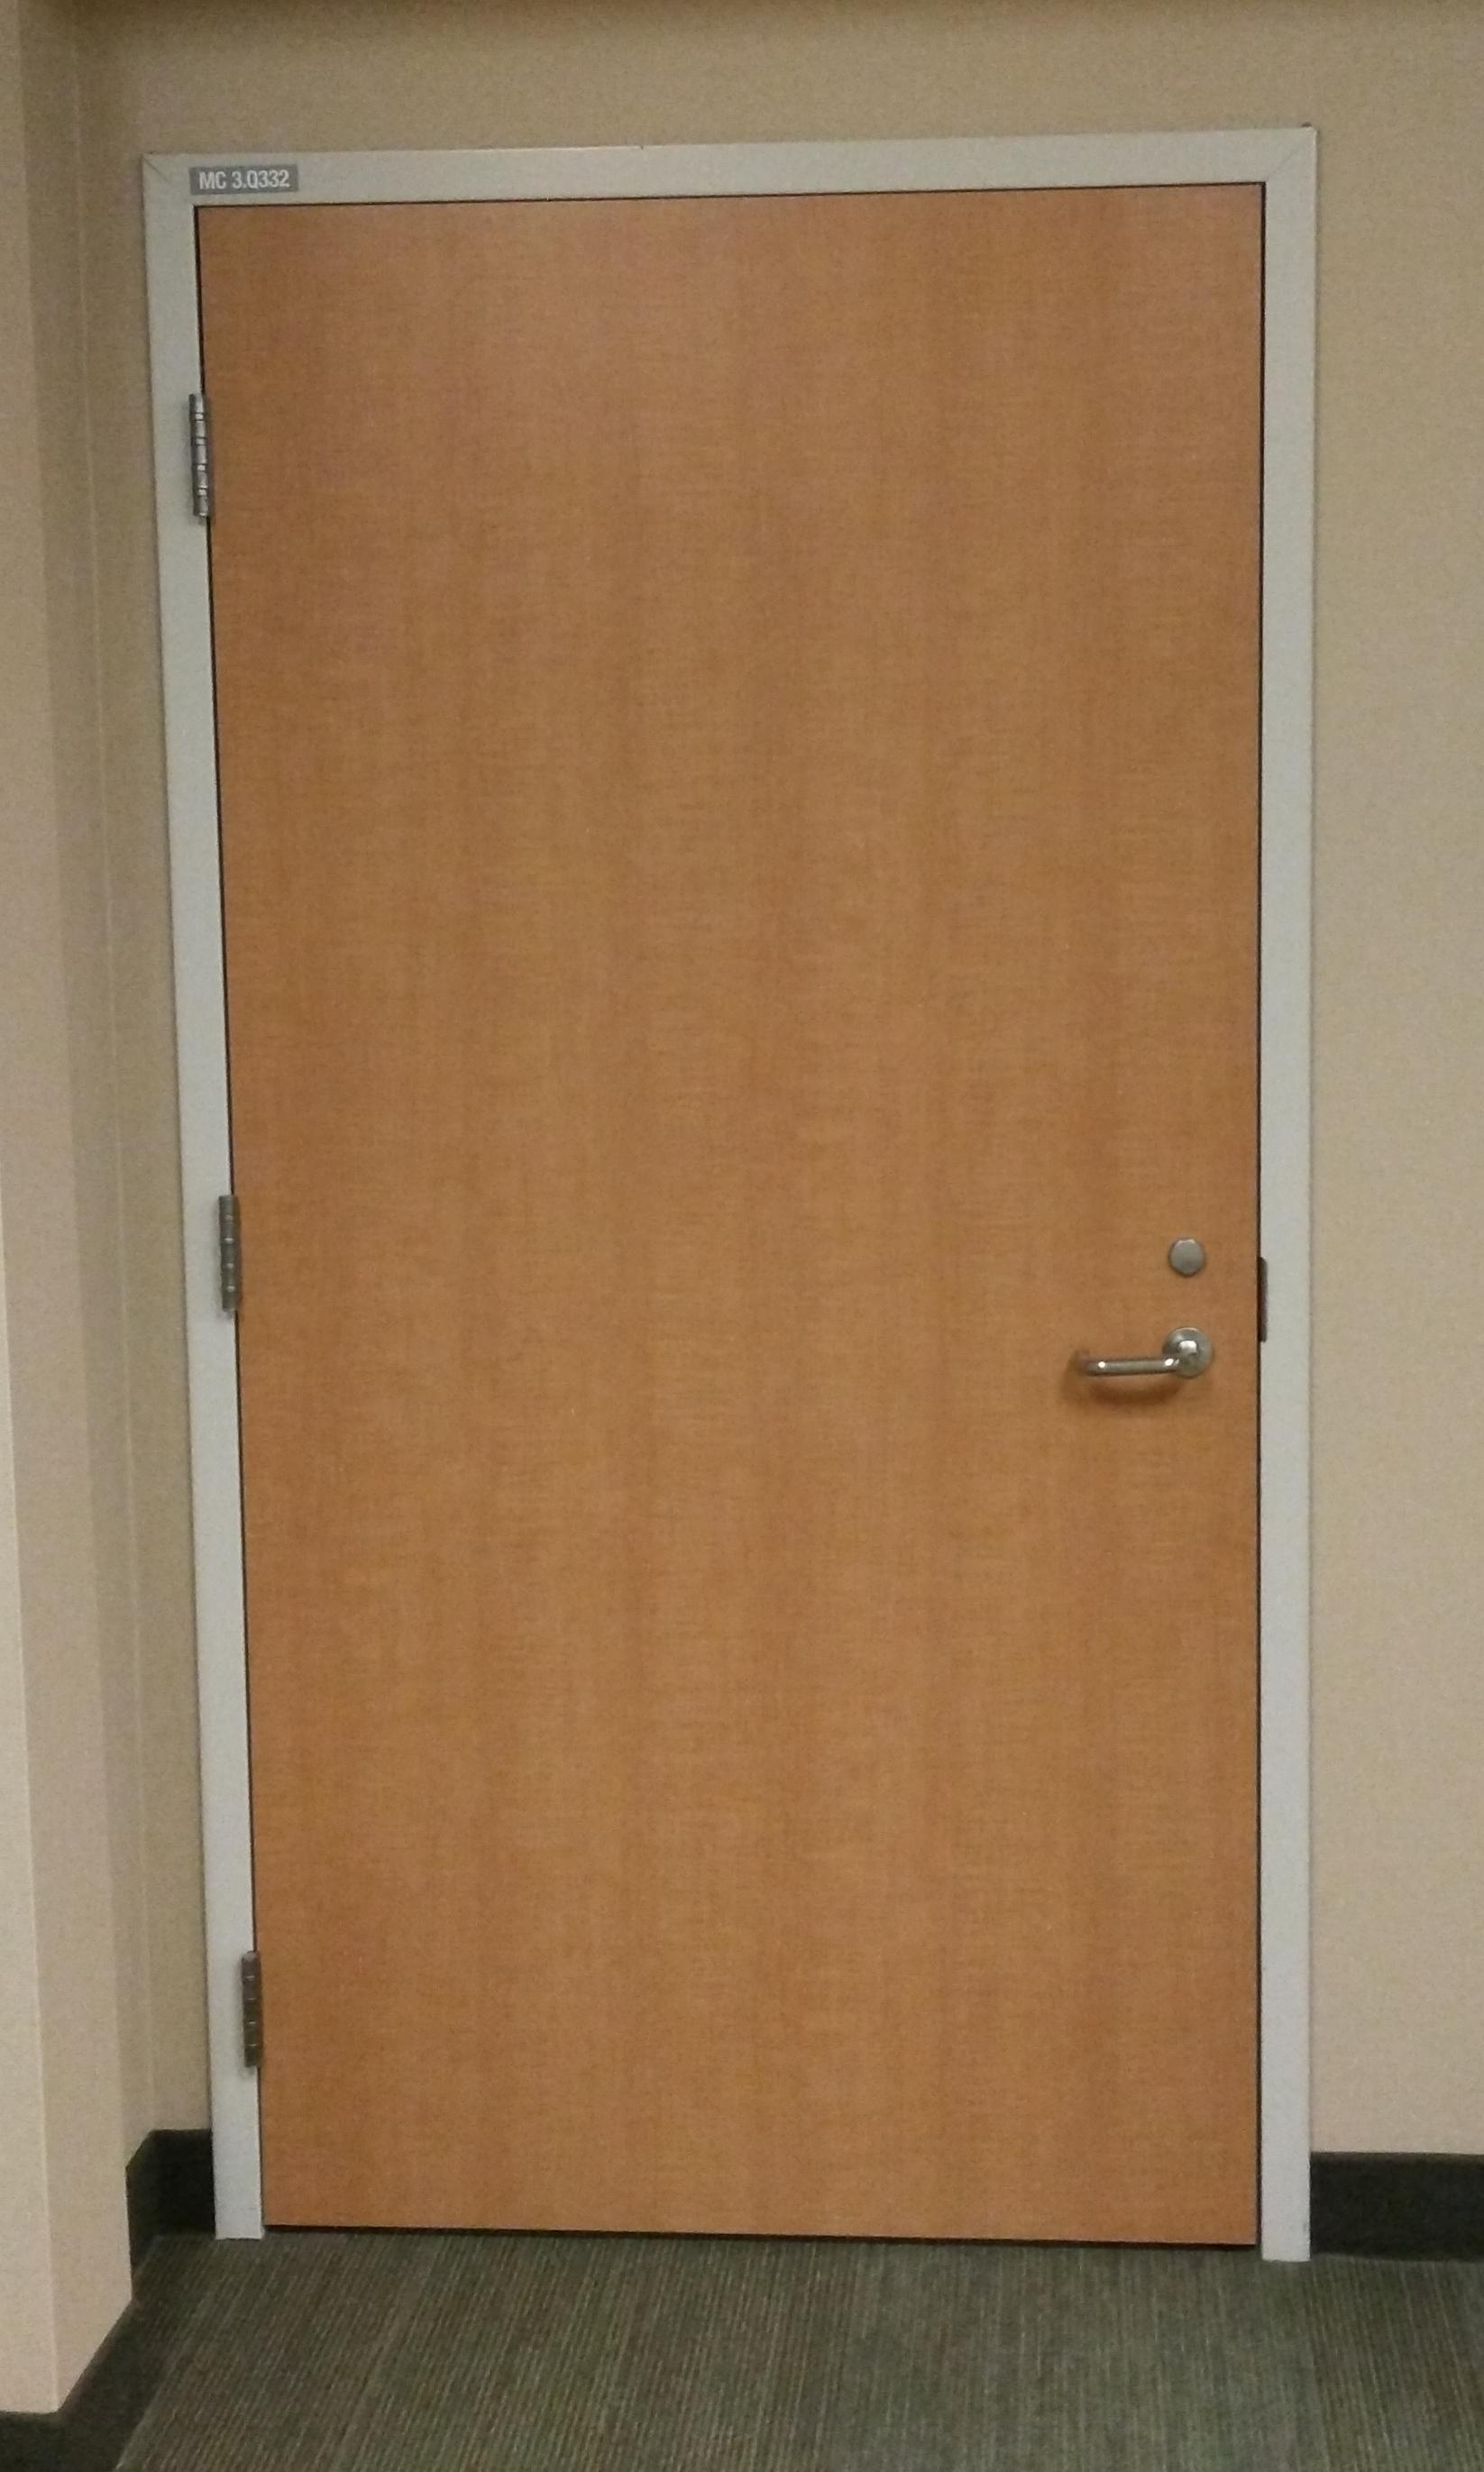door: (177, 182, 1284, 2244)
